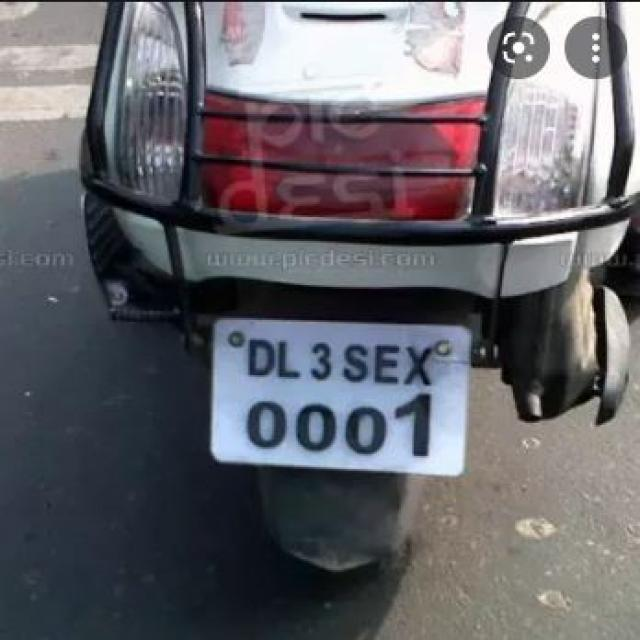number plate: (206, 314, 471, 476)
